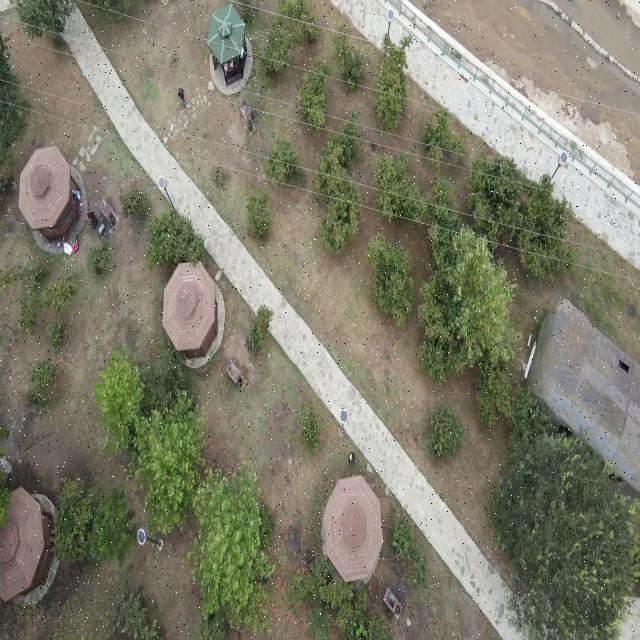people: (86, 209, 98, 228), (178, 88, 187, 109), (228, 60, 234, 70)
